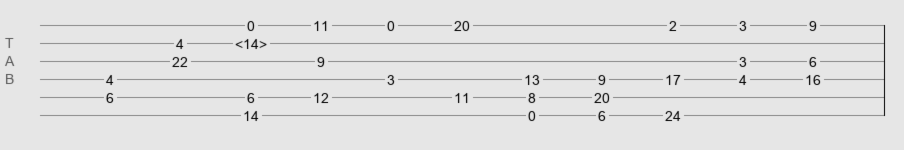0: (247, 18, 255, 28), (387, 18, 395, 28), (528, 108, 536, 118)
11: (313, 18, 329, 28), (454, 90, 470, 100)
12: (313, 90, 329, 100)
13: (524, 72, 540, 82)
14: (243, 108, 259, 118)
16: (805, 72, 821, 82)
17: (665, 72, 681, 82)
2: (669, 18, 677, 28)
20: (454, 18, 470, 28), (594, 90, 610, 100)
22: (172, 54, 188, 64)
24: (665, 108, 681, 118)
3: (387, 72, 395, 82), (739, 18, 747, 28), (739, 54, 747, 64)
4: (106, 72, 114, 82), (176, 36, 184, 46), (739, 72, 747, 82)
6: (106, 90, 114, 100), (247, 90, 255, 100), (598, 108, 606, 118), (809, 54, 817, 64)
8: (528, 90, 536, 100)
9: (317, 54, 325, 64), (598, 72, 606, 82), (809, 18, 817, 28)
harmonic: (235, 36, 267, 46)
